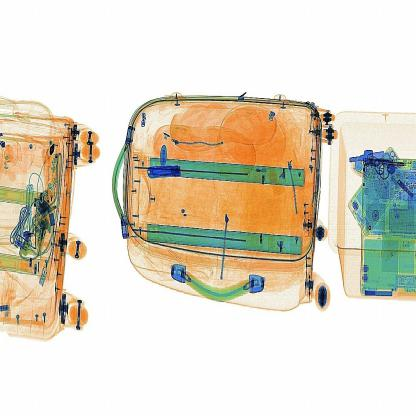knife: (141, 160, 186, 188)
